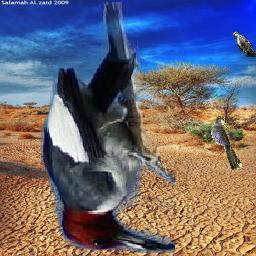Cuckoo: (212, 116, 243, 171), (232, 31, 256, 57)
Woodpecker: (41, 3, 175, 254)
